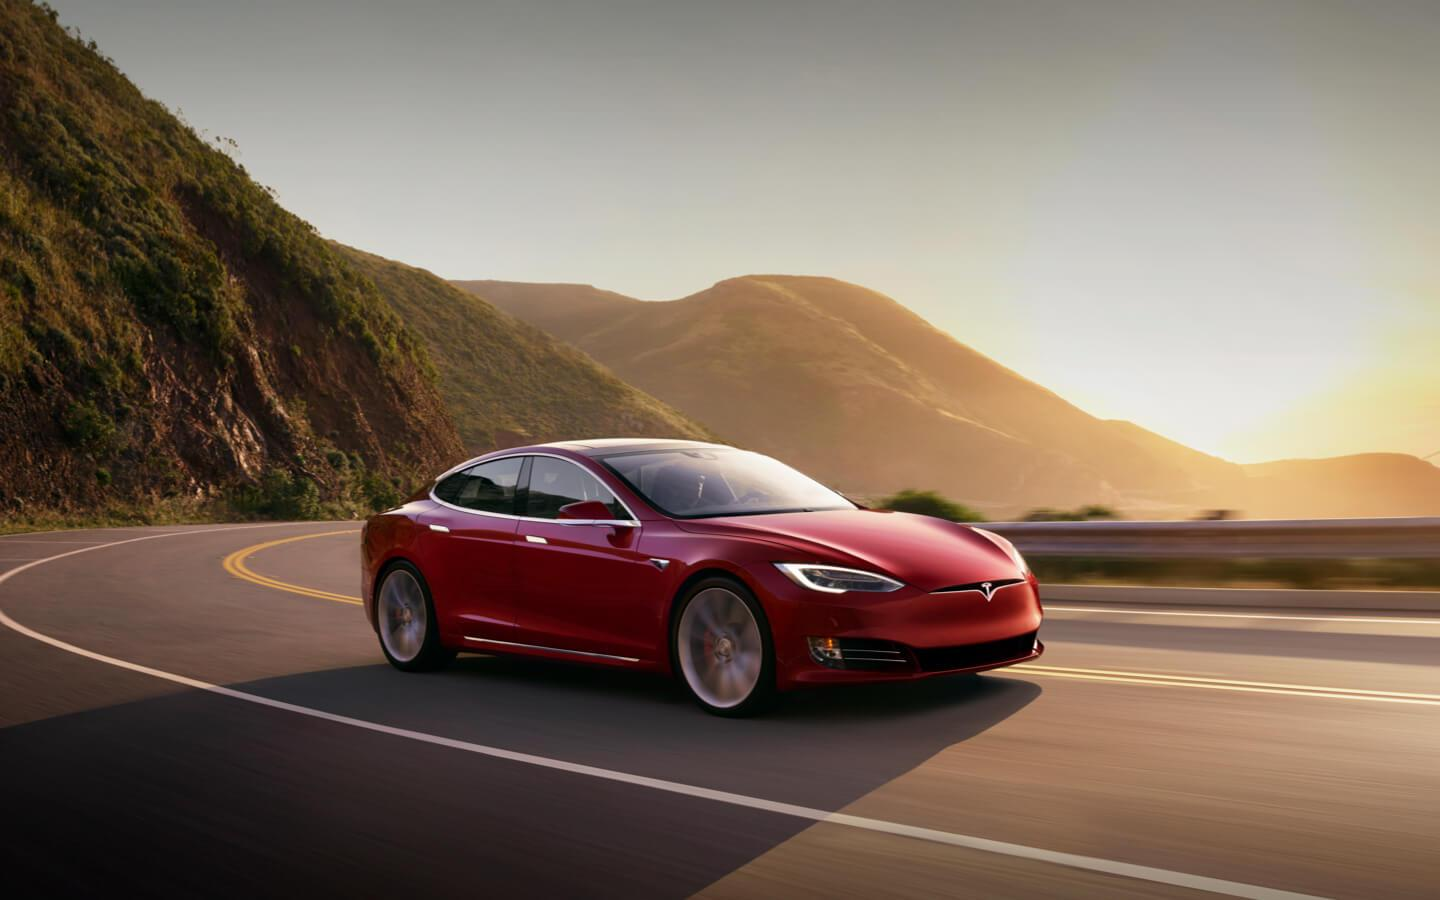car: (352, 441, 1133, 721)
